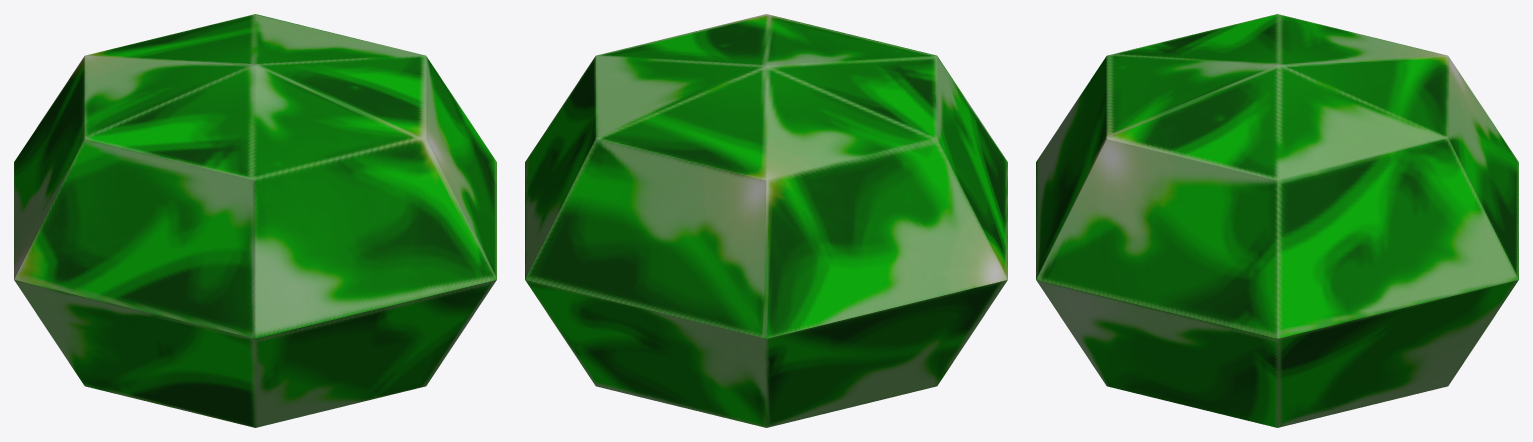
File: stone_green_002.fbx
The picture shows the model from 3 angles, left to right: view 1: azimuth 30°, elevation 25°; view 2: azimuth 150°, elevation 25°; view 3: azimuth 270°, elevation 25°; orthographic projection.
Parts seen in each view (by area): view 1: stone; view 2: stone; view 3: stone.
Boxes of the visible parts, bbox=[...] form: stone: bbox=[14, 14, 496, 427]; stone: bbox=[525, 14, 1007, 427]; stone: bbox=[1036, 14, 1518, 427].
Size of the model in its own units: 6.44 by 3.96 by 5.57.
